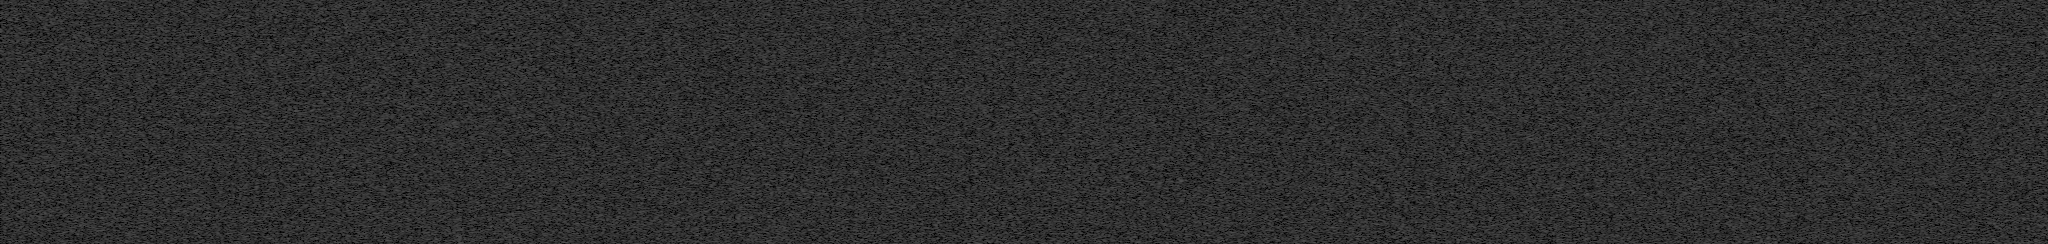wv_am: (1529, 0, 1536, 243), (1593, 0, 1599, 243)
wv_cw: (1050, 0, 1055, 243), (1913, 0, 1919, 243)
wv_lsb: (1563, 87, 1569, 174), (1563, 14, 1569, 46), (1563, 61, 1569, 86), (1563, 211, 1567, 243), (1563, 175, 1569, 193), (1492, 160, 1494, 189), (1490, 115, 1496, 129), (1563, 47, 1569, 60), (1563, 194, 1567, 210), (1490, 146, 1496, 157), (1490, 130, 1496, 141), (1492, 196, 1494, 207), (1563, 7, 1567, 14), (1492, 104, 1494, 114), (1492, 230, 1494, 237), (1492, 213, 1494, 221), (1492, 224, 1494, 228), (1492, 191, 1494, 193)
wv_usb: (1592, 129, 1597, 243), (1592, 65, 1597, 128), (1718, 121, 1723, 181), (1718, 181, 1723, 234), (1592, 5, 1597, 44), (1718, 93, 1723, 116), (1592, 46, 1597, 64), (1718, 235, 1721, 241), (1718, 117, 1721, 120)
wv_wbfm: (221, 0, 238, 243)
